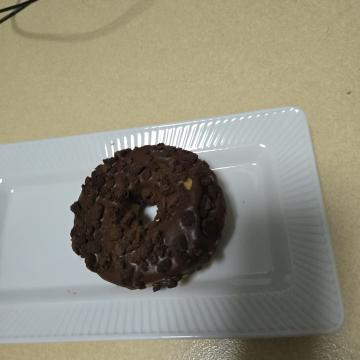doughnut: (131, 130, 303, 308)
